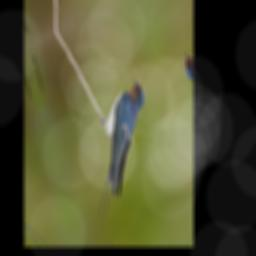Swallow: (70, 75, 170, 224)
